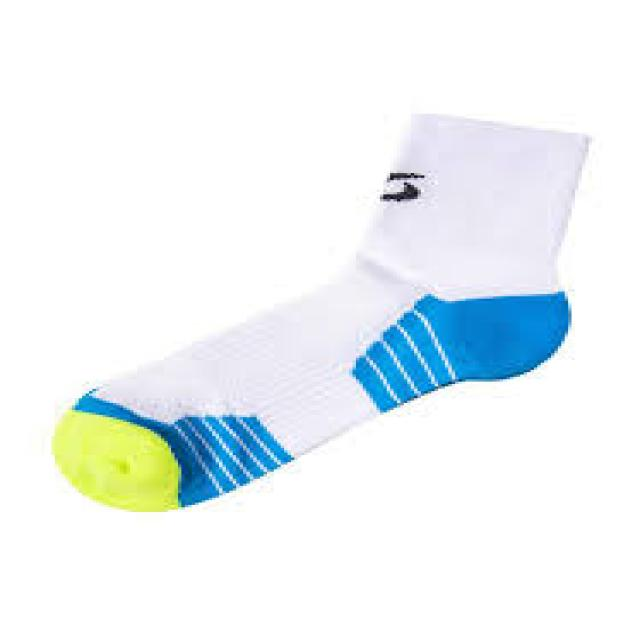sock: (48, 109, 592, 512)
